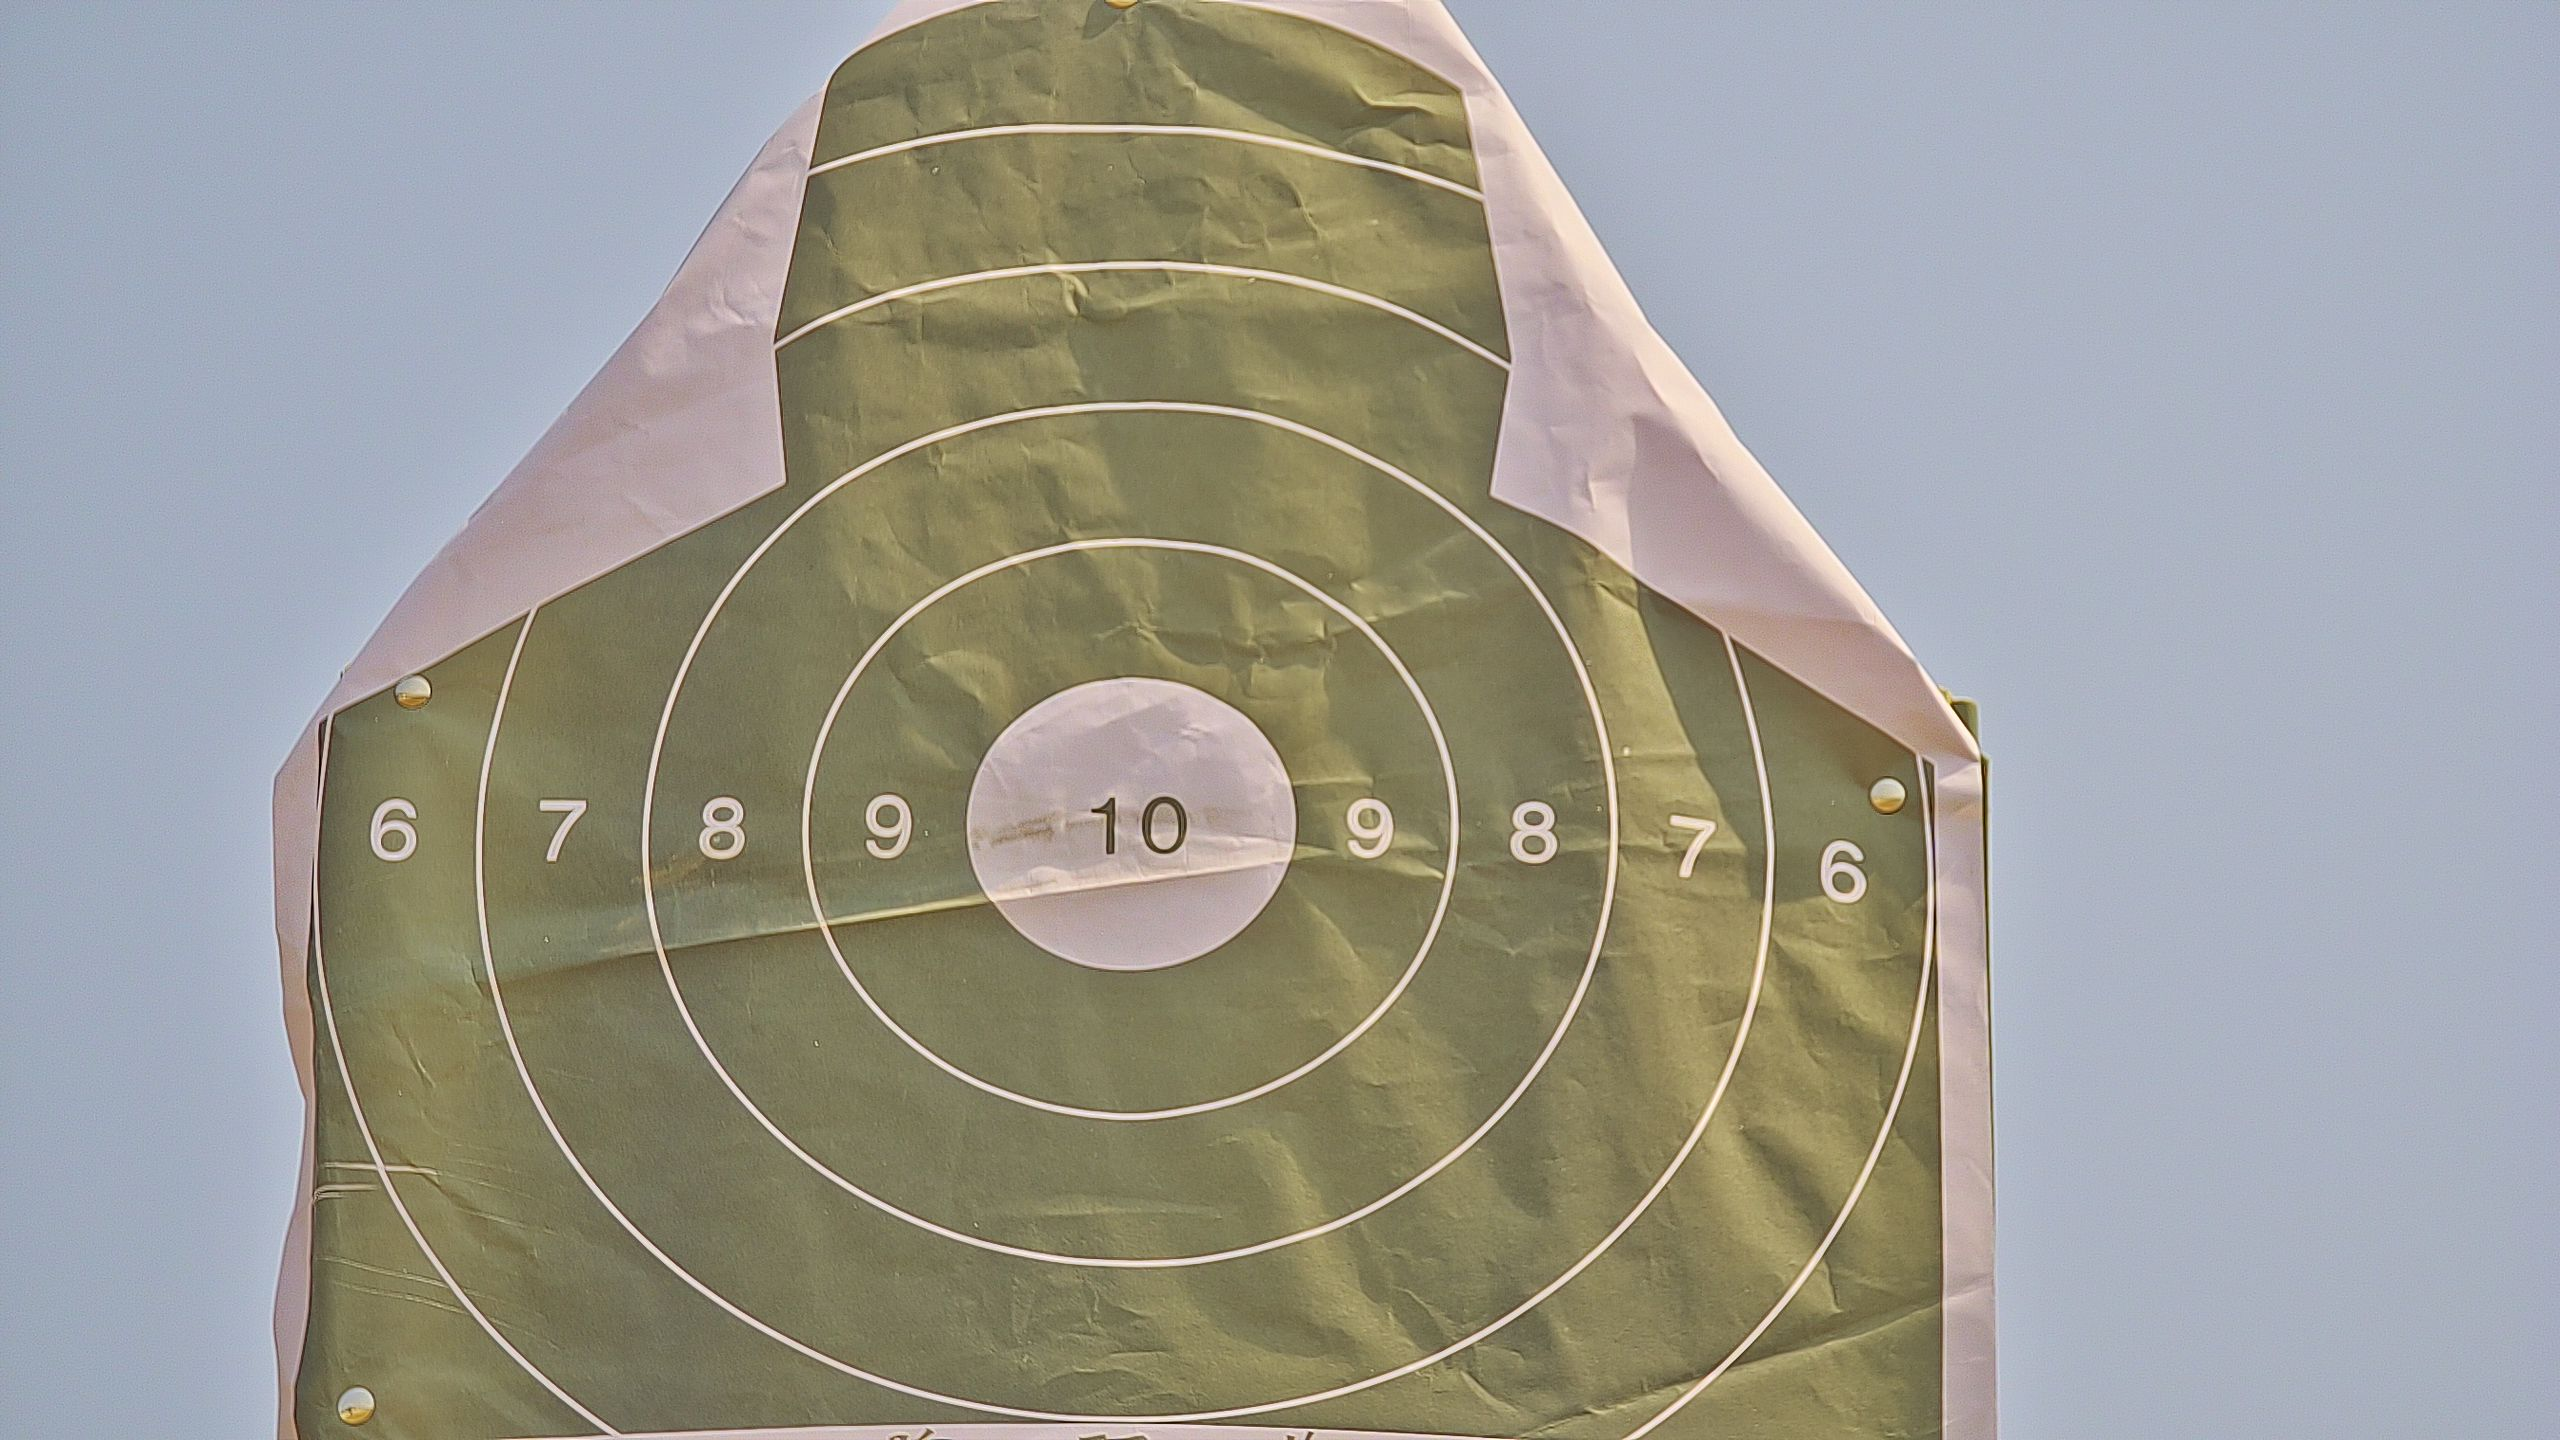kernel: (1127, 826, 1134, 833)
target: (302, 2, 1945, 1440)
ten: (962, 673, 1299, 971)
